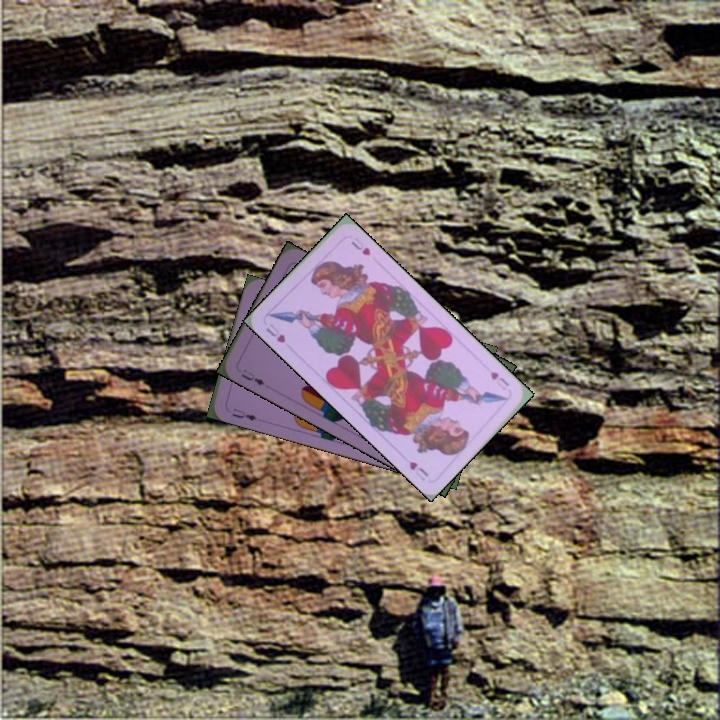EU: (237, 365, 268, 388), (228, 404, 259, 423)
HU: (262, 319, 288, 345), (487, 367, 512, 393)
